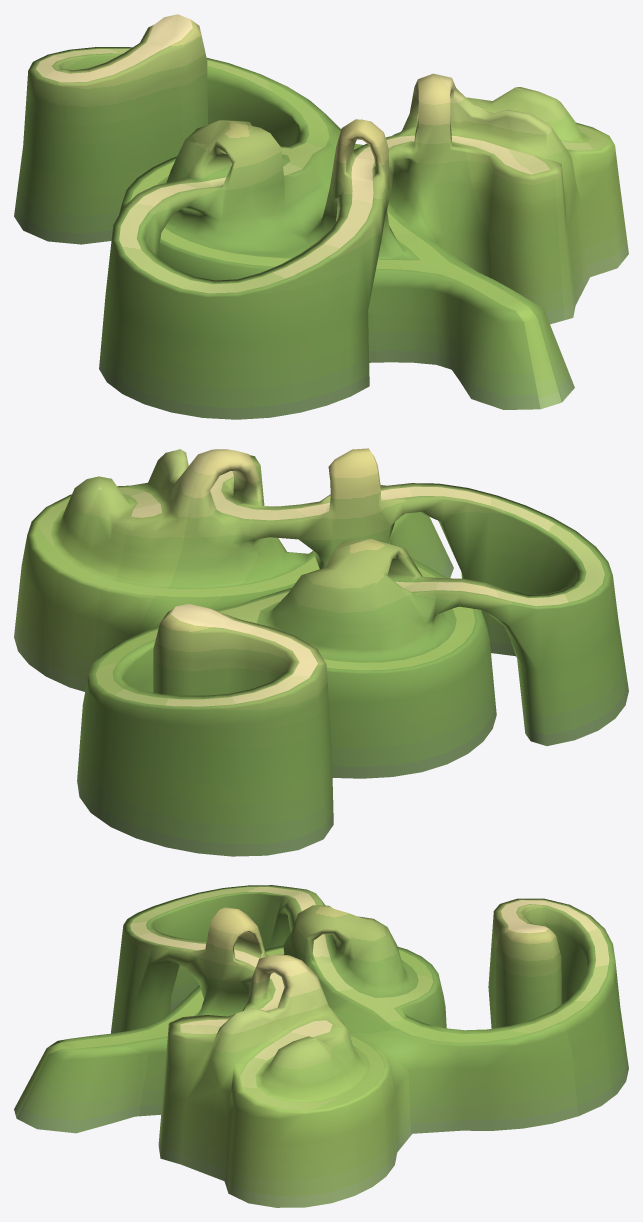
The model's file is model_island_08.fbx.
3 renders of one model, top to bottom at view 1: azimuth 30°, elevation 25°; view 2: azimuth 150°, elevation 25°; view 3: azimuth 270°, elevation 25°, orthographic. The views are drawn at different scales.
Parts seen in each view (by area): view 1: island_08_geo; view 2: island_08_geo; view 3: island_08_geo.
Boxes of the visible parts, x1,y1,x2,y2 form: island_08_geo: (14, 14, 628, 419); island_08_geo: (14, 448, 628, 856); island_08_geo: (14, 885, 628, 1207).
Size of the model in its own units: 527 by 195 by 613.
